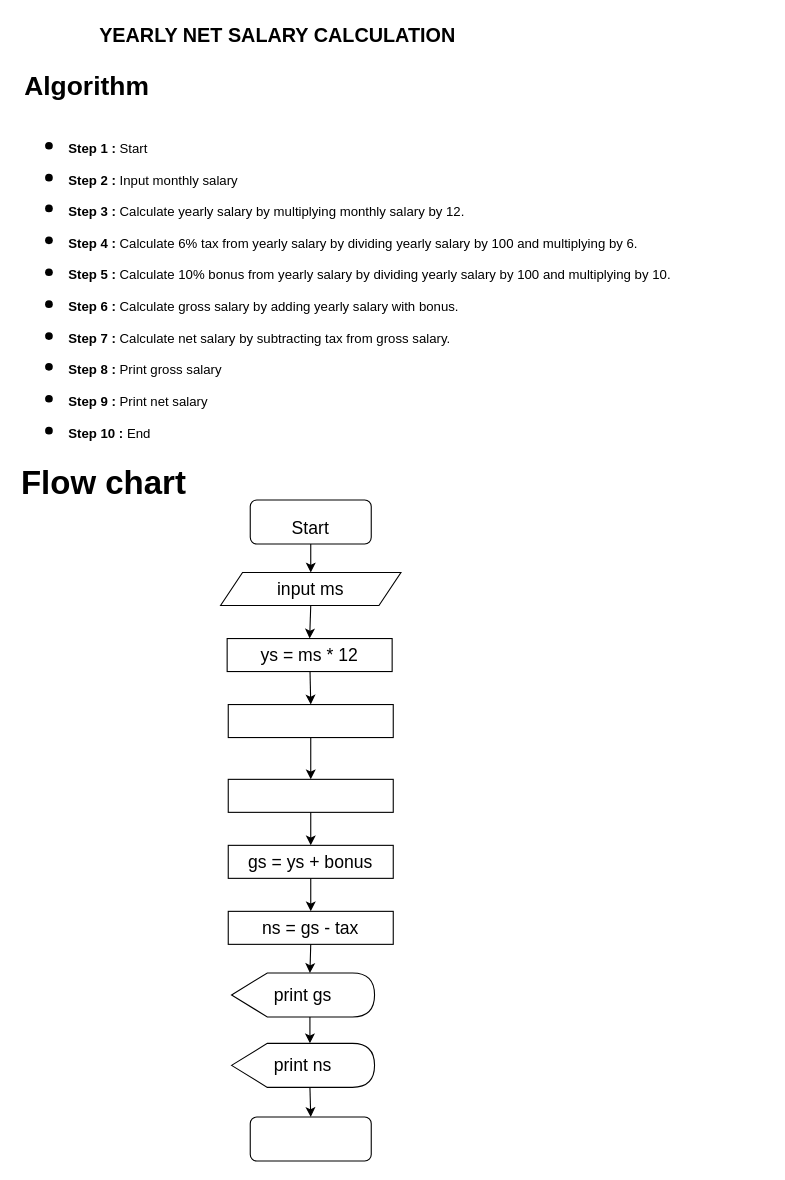
The diagram is 785 pixels wide and 1180 high, and some of its shapes have lost their labels. The shapes that lost their labels are listed below. From the top down, each one's centre as x and y in pixels, then its label:
At pixel 310 720: "tax = (ys/100)*6".
At pixel 310 795: "bonus = (ys/100)*10".
At pixel 310 1138: "End".
